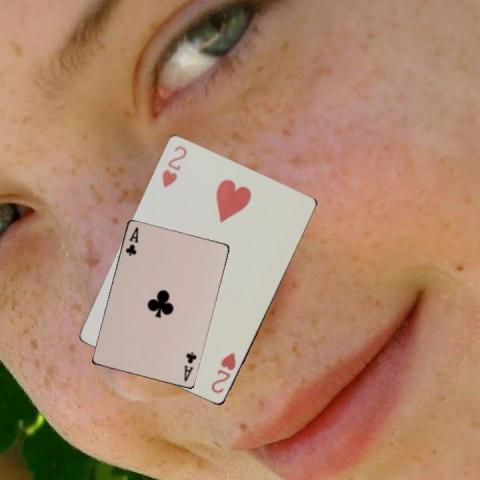2h: (207, 350, 238, 395), (158, 144, 188, 190)
Ac: (181, 349, 198, 383), (123, 225, 140, 257)
